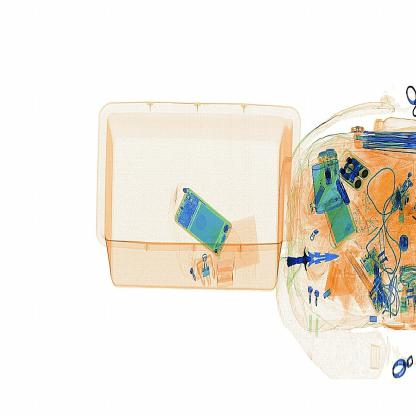knife: (335, 176, 356, 210)
